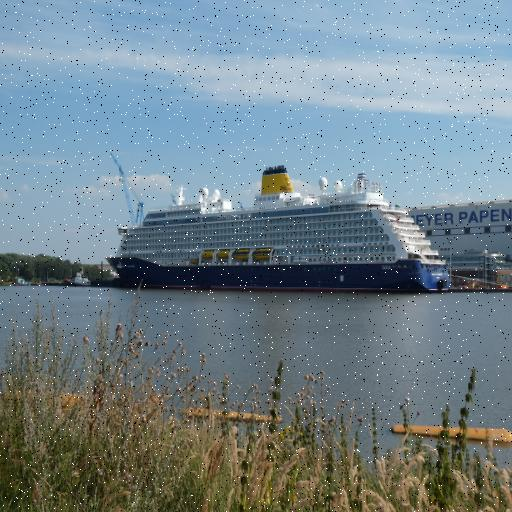cruises: (104, 162, 455, 300)
